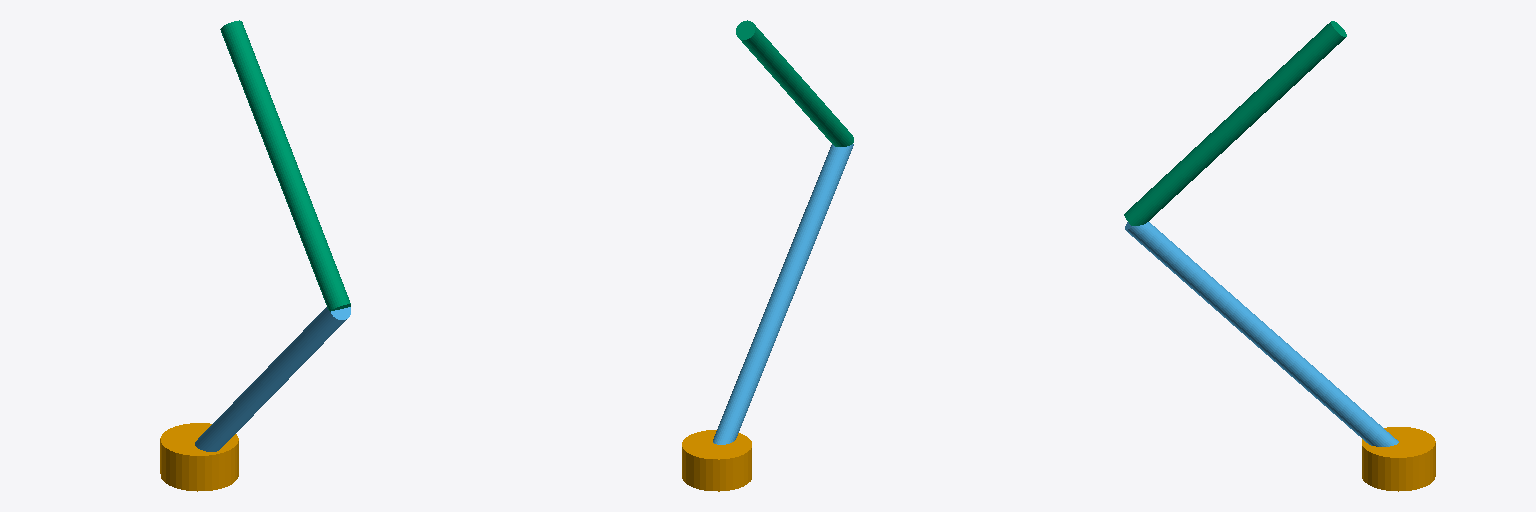
The robot description file, URDF, robot "2_R_robot":
<robot name="2_R_robot">
    <link name="fixed_base">
      <visual>
         <geometry>
            <cylinder length = "0.1" radius = "0.1"/>
         </geometry>
      </visual>
    </link>

    <link name="link_1">
      <visual>
         <geometry>
            <cylinder length = "1" radius = "0.03"/>
         </geometry>
      </visual>
    </link>            

    <link name="link_2">
      <visual>
         <geometry>
            <cylinder length = "0.8" radius = "0.03"/>
         </geometry>
      </visual>
    </link>


    <joint name="Revolute_joint_1" type="revolute">
      <parent link = "fixed_base"/>
      <child link = "link_1"/>
      <axis xyz = "1 0 0"/>
      <origin rpy = "0.8 0 0" xyz = "0 -0.36 0.3583"/>
      <limit lower = "0" upper = "0.4" effort = "1"/>
    </joint>

    <joint name="Revolute_joint_2" type="revolute">     ### make it of revolute type
      <parent link = "link_1"/>
      <child link = "link_2"/>
      <origin xyz = "0 0.4 0.5" rpy = "1.57 0 0"/>
      <axis xyz = "1 0 0"/>
      <limit lower = "0" upper = "0.4" effort = "1"/>
     
    </joint>

</robot>

--- What the picture shows (computed from the rendered views, not written in the file) ---
Views: 3 orthographic renders of the robot side by side, from view 1: azimuth 30°, elevation 25°; view 2: azimuth 150°, elevation 25°; view 3: azimuth 270°, elevation 25°.
Model 2_R_robot with 3 links and 2 joints (2 revolute), rooted at fixed_base, posed all joints at 0.
Links seen in each view (by area): view 1: link_2, link_1, fixed_base; view 2: link_1, fixed_base, link_2; view 3: link_1, link_2, fixed_base.
Link boxes in pixels (<box>): link_2: <box>220,20,350,311</box>; link_1: <box>195,307,350,451</box>; fixed_base: <box>160,423,238,491</box>; link_1: <box>713,144,853,444</box>; fixed_base: <box>682,430,751,491</box>; link_2: <box>736,20,853,146</box>; link_1: <box>1125,222,1398,446</box>; link_2: <box>1124,21,1346,225</box>; fixed_base: <box>1362,427,1435,491</box>.
Size in the robot's own frame: 0.2 by 0.8404 by 1.35 metres.
Geometry: primitives only (box / cylinder / sphere), no mesh files.